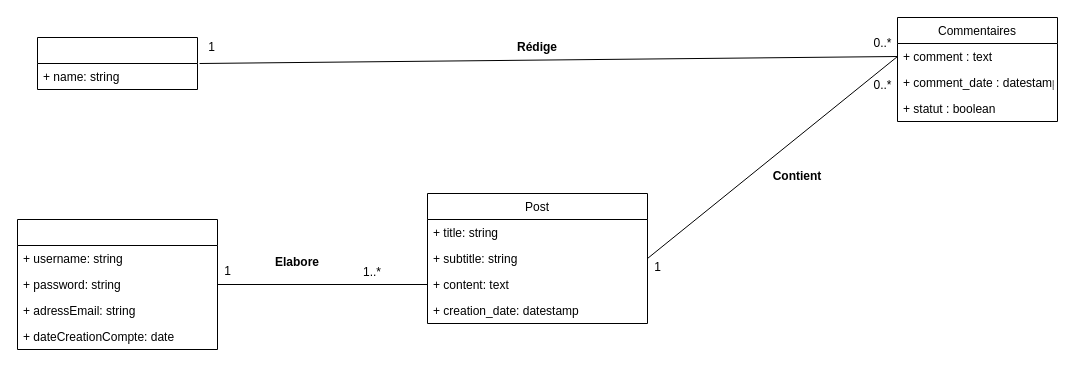
Image size: 1075x370. Some labels were removed from this diagram. Here are the shapes that lost their labels. From the top down, the box of each, then its label:
(36, 36, 198, 90): Lecteur
(16, 218, 218, 350): Author
